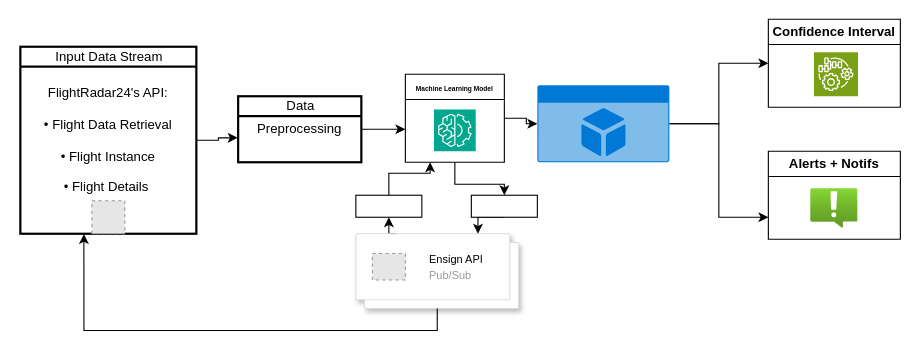
Image size: 920x359. Some labels were removed from this diagram. Grey dashed boxes stand in for pictures. The centre of each missing label's shape, as x and y in pixels:
"Fetch" belongs at point 388,205.
"Re-train and store" belongs at point 503,205.
"Real-time Prediction" belongs at point 603,123.
